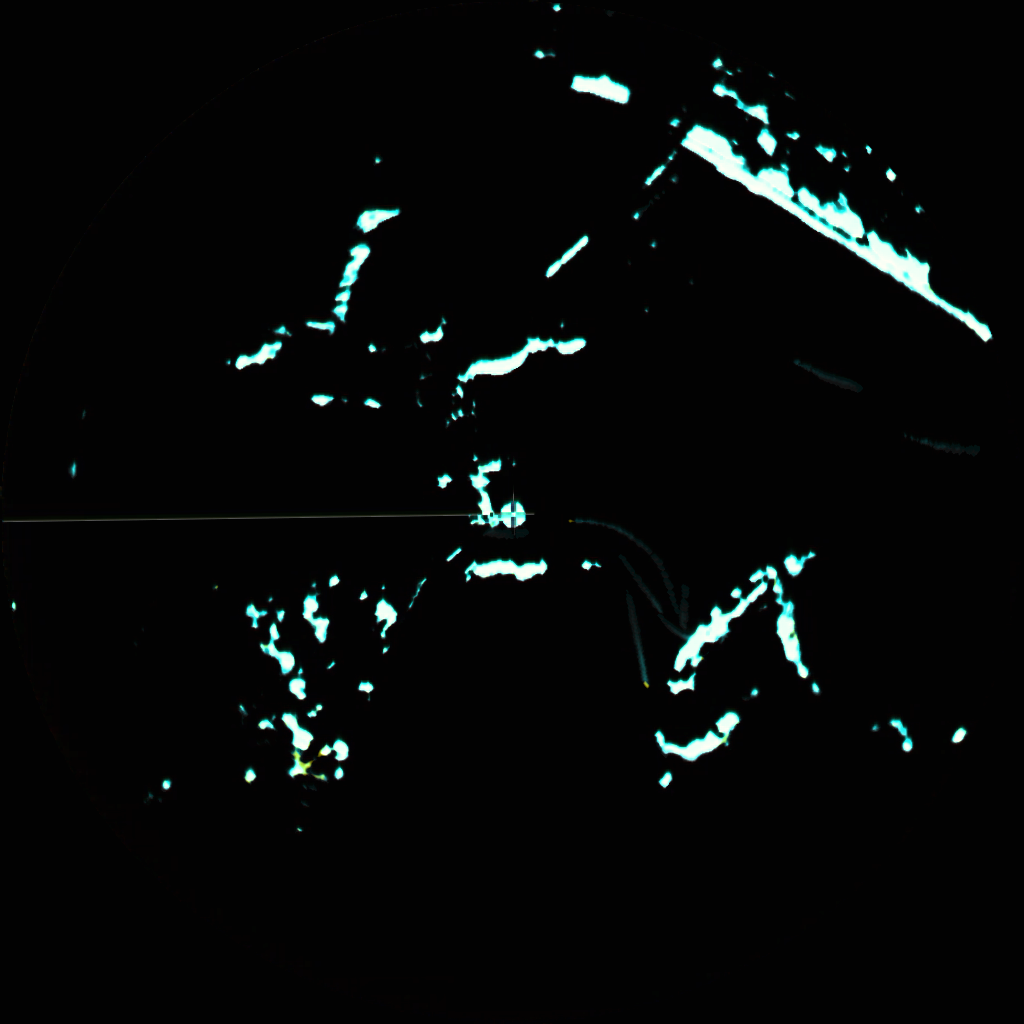B: (790, 355, 844, 387), (565, 514, 628, 536), (633, 638, 652, 688)
